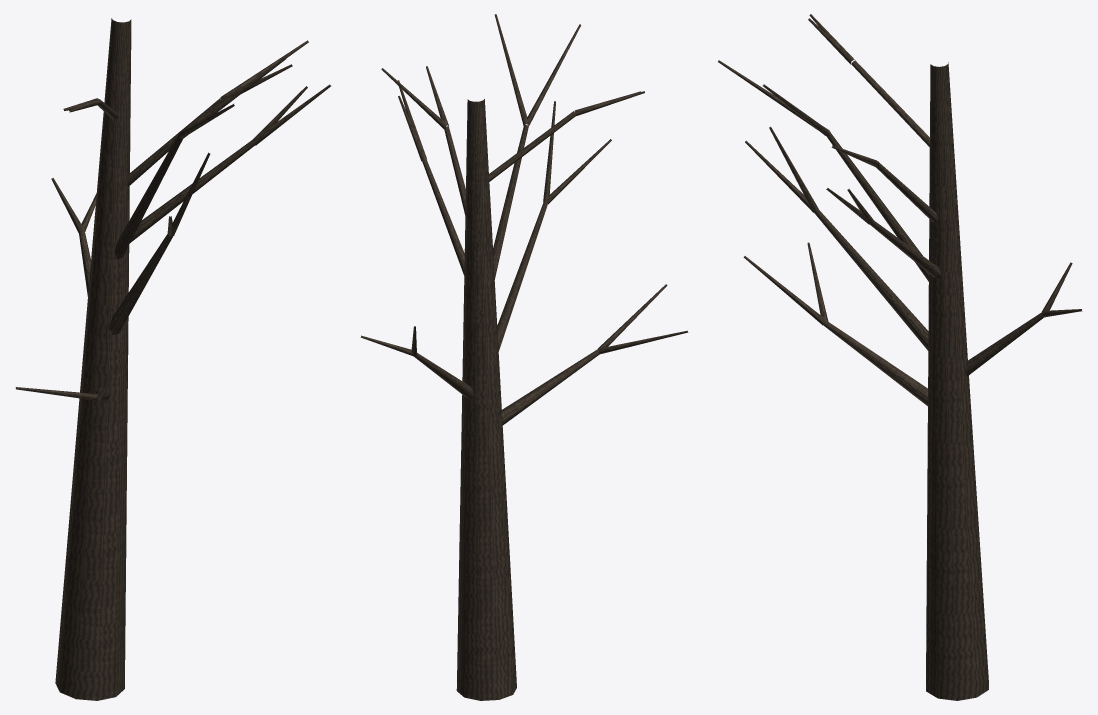
The model's file is dead_tree_2.glb.
3 renders of one model, left to right at view 1: azimuth 30°, elevation 25°; view 2: azimuth 150°, elevation 25°; view 3: azimuth 270°, elevation 25°, orthographic. The views are drawn at different scales.
Visible parts, largest first — view 1: dead_tree_2; view 2: dead_tree_2; view 3: dead_tree_2.
Part boxes in pixels (x1,y1,x2,y2): dead_tree_2: [15, 18, 330, 700]; dead_tree_2: [360, 14, 688, 700]; dead_tree_2: [718, 14, 1082, 700].
Size of the model in its own units: 3.02 by 6.03 by 3.1.
1 material, 1 textured.
